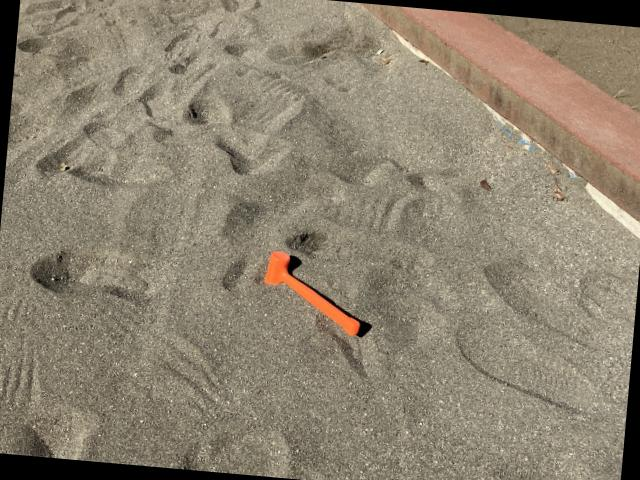hammer: (259, 249, 366, 337)
